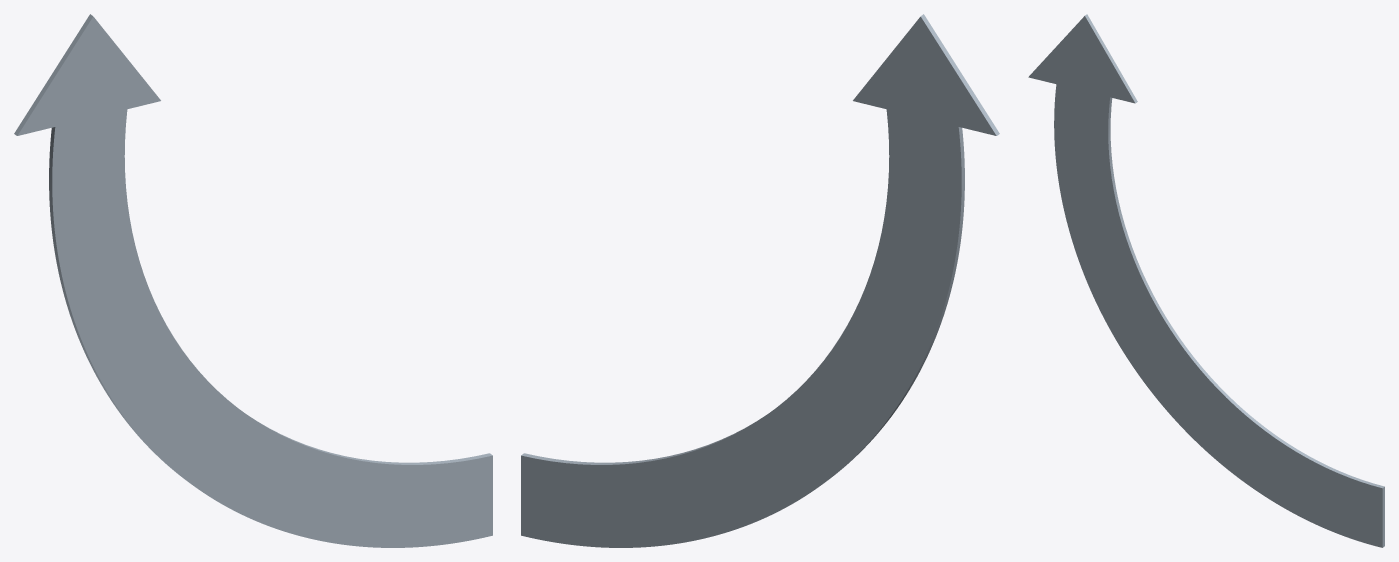
File: curvedarrow.obj
3 renders of one model, left to right at view 1: azimuth 30°, elevation 25°; view 2: azimuth 150°, elevation 25°; view 3: azimuth 330°, elevation 25°, orthographic. The views are drawn at different scales.
Parts seen in each view (by area): view 1: 1; view 2: 1; view 3: 1.
Boxes of the visible parts, x1,y1,x2,y2 form: 1: (14,14,492,547); 1: (521,14,999,547); 1: (1028,14,1384,547).
Bounding box in the file's own units: 427 × 529 × 5.
